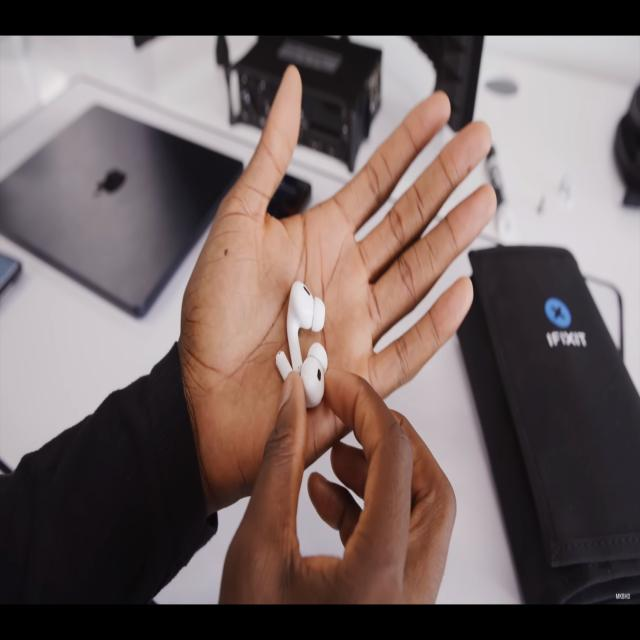airpods: (286, 280, 326, 376), (275, 342, 328, 409)
